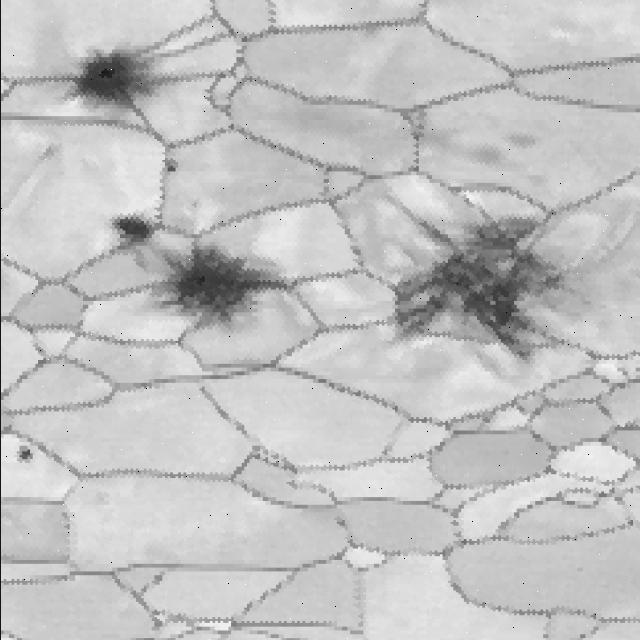good_void: (381, 198, 569, 376), (135, 229, 286, 330), (54, 41, 150, 127), (108, 203, 172, 254), (155, 157, 183, 177), (12, 446, 32, 462)
